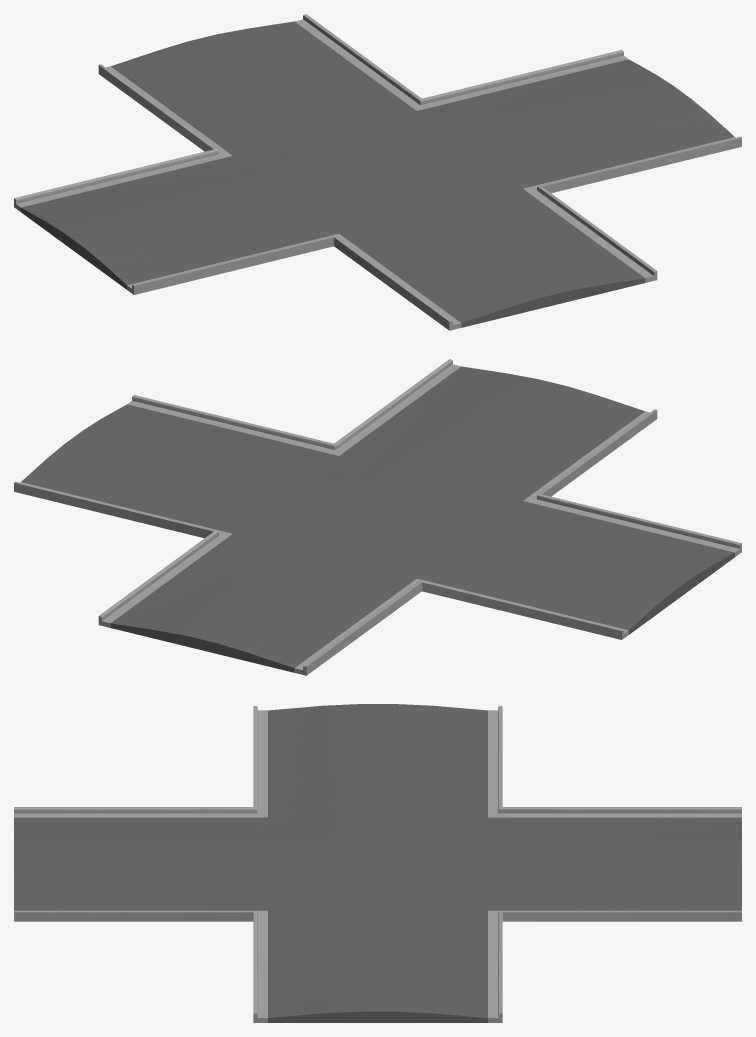
File: crossroads.fbx
3 views of the same model, one above another, from view 1: azimuth 30°, elevation 25°; view 2: azimuth 150°, elevation 25°; view 3: azimuth 270°, elevation 25° (orthographic). The views are drawn at different scales.
Visible parts, largest first — view 1: polySurface639; view 2: polySurface639; view 3: polySurface639.
Part boxes in pixels (x1,y1,x2,y2): polySurface639: (14,14,741,330); polySurface639: (14,359,741,675); polySurface639: (14,704,741,1022).
Size of the model in its own units: 30.4 by 0.5184 by 30.4.
